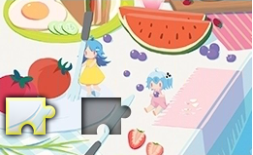gap: (81, 97, 131, 135)
